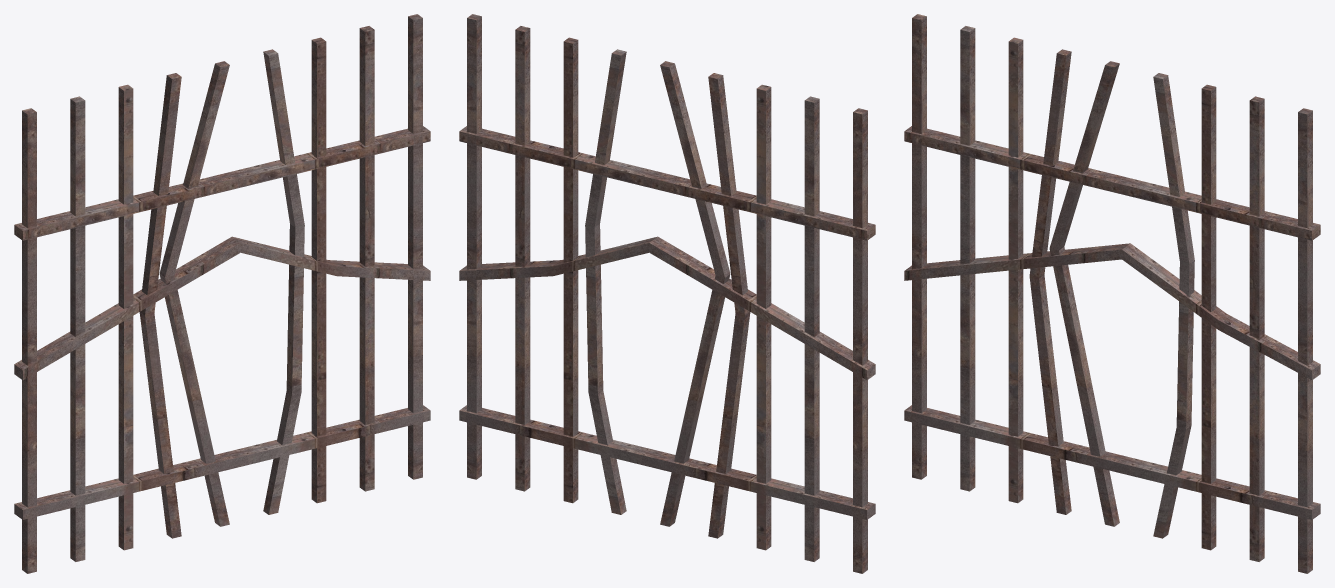
Rendered from MetalGateBusted.fbx.
3 views of the same model, side by side, from view 1: azimuth 30°, elevation 25°; view 2: azimuth 150°, elevation 25°; view 3: azimuth 330°, elevation 25° (orthographic).
Parts seen in each view (by area): view 1: Fence_01; view 2: Fence_01; view 3: Fence_01.
Part boxes in pixels (x1,y1,x2,y2): Fence_01: (14,14,430,573); Fence_01: (459,14,875,573); Fence_01: (904,14,1320,573).
Size of the model in its own units: 314 by 338 by 11.44.
